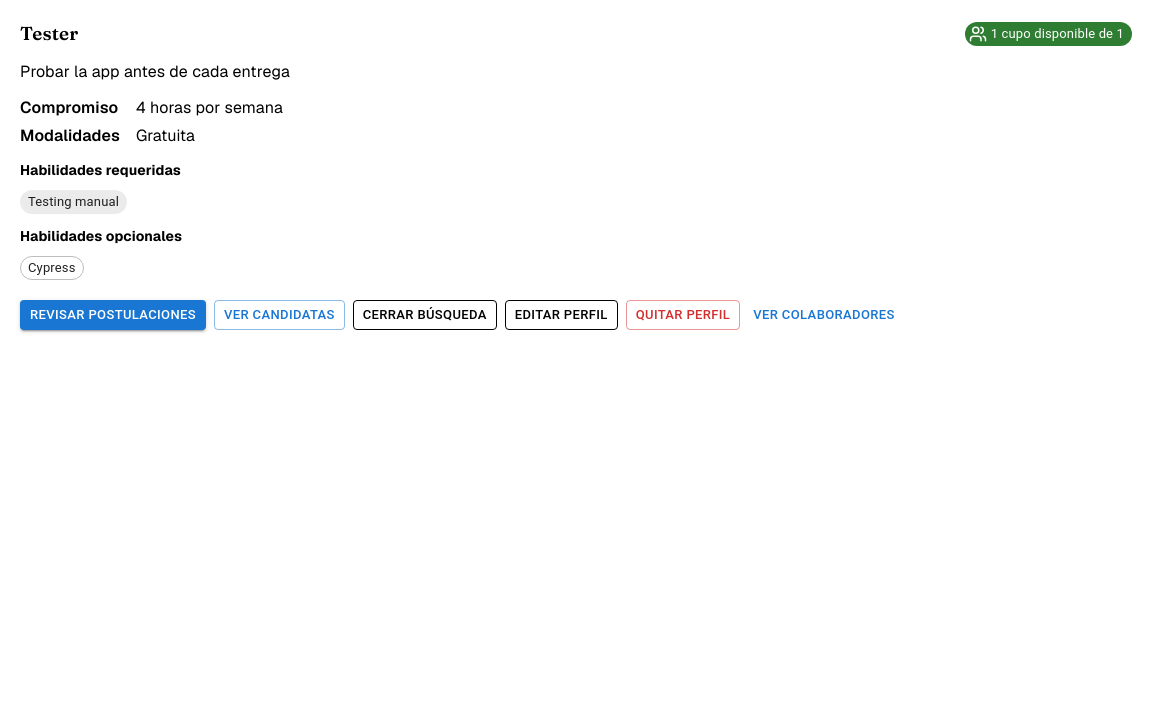
Scenario: PerfilRequerido › si cancela, la búsqueda sigue abierta
What coordinates should you click on to do the following:
click the button "Cerrar búsqueda"
I would click on:
 (425, 315)
Its box is x1=353 y1=300 x2=497 y2=330.
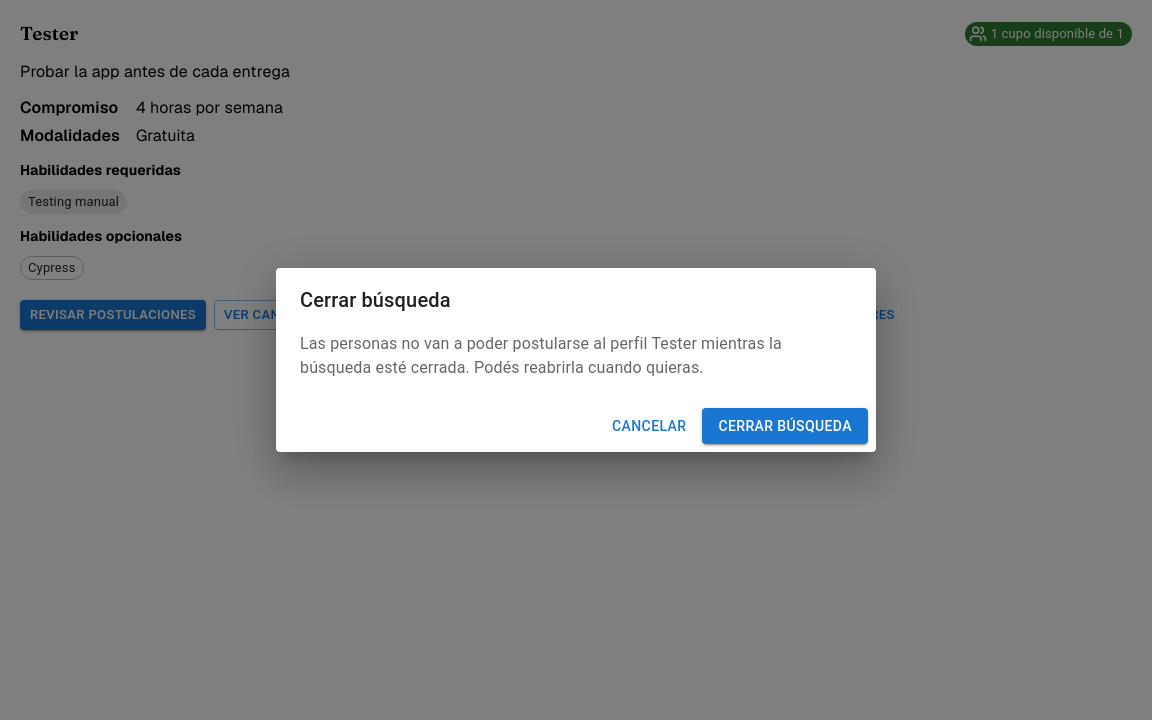
What coordinates should you click on to do the following:
click the button "Cancelar"
I would click on:
 (649, 426)
Its box is x1=604 y1=408 x2=694 y2=444.
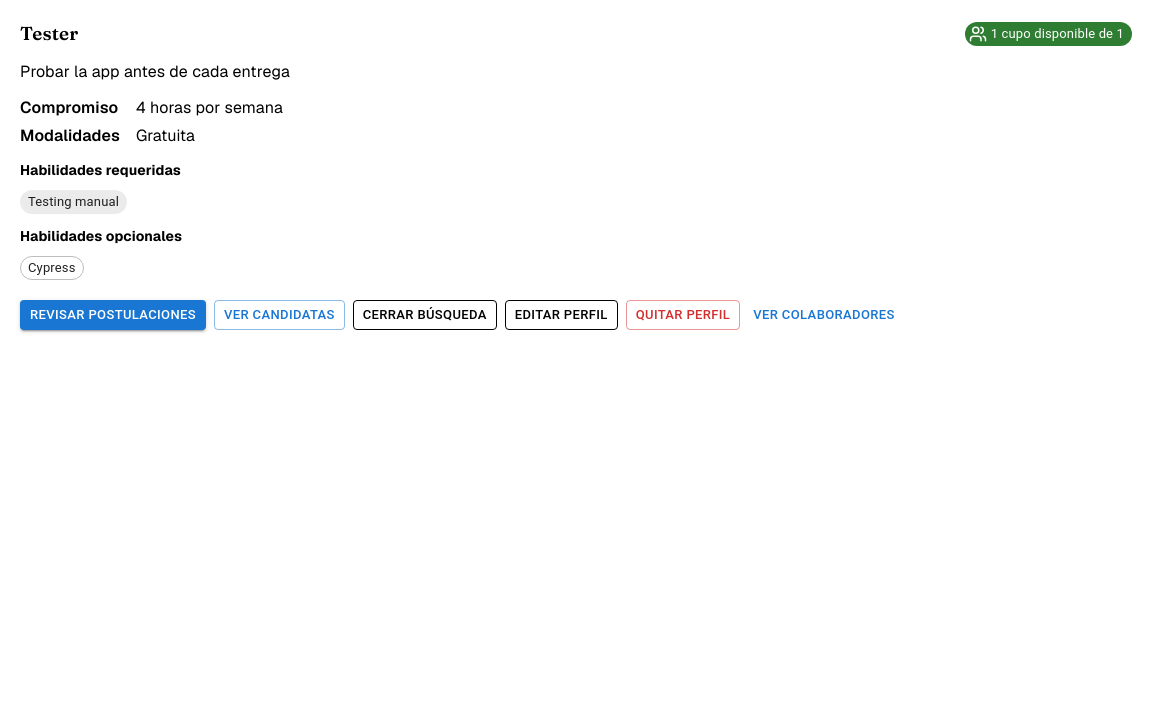
Check: the dialog is gone
